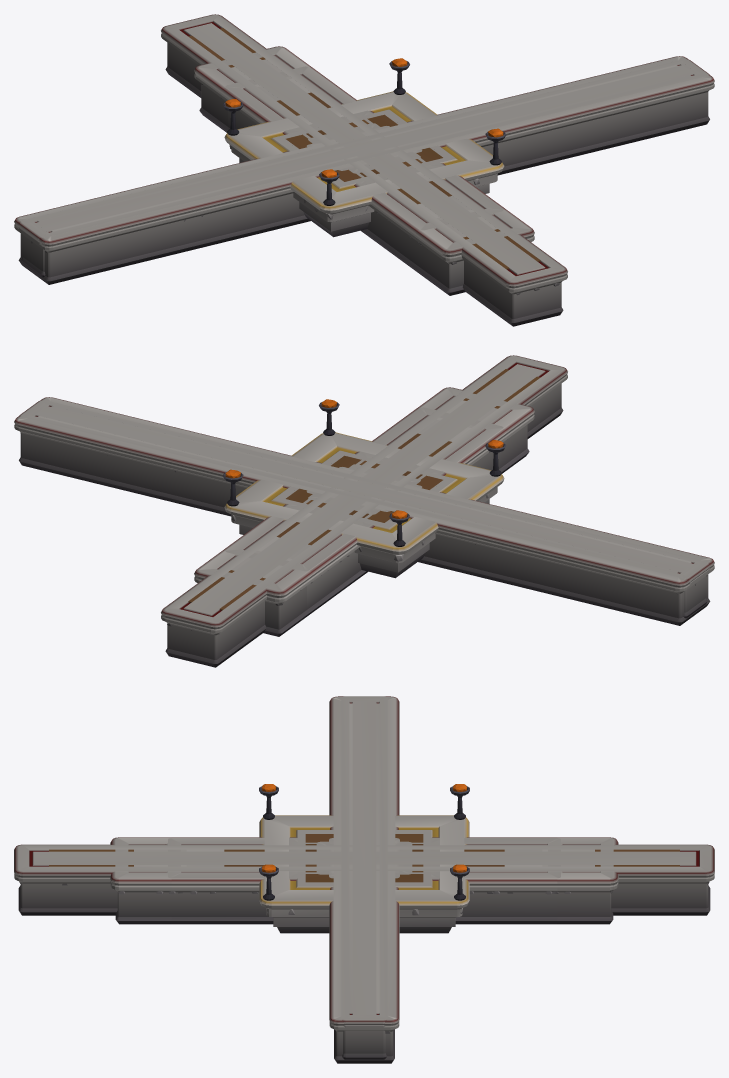
File: fortress-2-Cm3XvLtw.glb
3 renders of one model, top to bottom at view 1: azimuth 30°, elevation 25°; view 2: azimuth 150°, elevation 25°; view 3: azimuth 270°, elevation 25°, orthographic.
Visible parts, largest first — view 1: block_44x2x4_grate#1, block_4x2x40_grate#1, block_44x2x3#1, pad_12x2x12#1, block_6x2x23#1, block_6x2x29#1, hover_7x1.5x7#1, beam_2.5x1.5x36#1; view 2: block_44x2x4_grate#1, block_4x2x40_grate#1, block_44x2x3#1, pad_12x2x12#1, block_6x2x23#1, block_6x2x29#1, hover_7x1.5x7#1, beam_2.5x1.5x36#1; view 3: block_4x2x40_grate#1, block_44x2x3#1, pad_12x2x12#1, block_6x2x23#1, block_44x2x4_grate#1, block_6x2x29#1, hover_7x1.5x7#1, beam_2.5x1.5x36#1.
Part boxes in pixels (x1,y1,x2,y2): block_44x2x4_grate#1: (14,56,714,284); block_4x2x40_grate#1: (161,14,567,326); block_44x2x3#1: (18,59,709,277); pad_12x2x12#1: (222,58,505,237); block_6x2x23#1: (221,66,505,275); block_6x2x29#1: (194,46,534,295); hover_7x1.5x7#1: (286,114,442,181); beam_2.5x1.5x36#1: (188,28,540,269); block_44x2x4_grate#1: (14,397,714,625); block_4x2x40_grate#1: (161,355,567,667); block_44x2x3#1: (19,400,710,618); pad_12x2x12#1: (223,399,506,578); block_6x2x23#1: (223,407,507,616); block_6x2x29#1: (194,387,534,636); hover_7x1.5x7#1: (286,455,442,522); beam_2.5x1.5x36#1: (188,369,540,610); block_4x2x40_grate#1: (14,844,714,915); block_44x2x3#1: (341,696,387,1059); pad_12x2x12#1: (259,784,469,933); block_6x2x23#1: (165,837,563,924); block_44x2x4_grate#1: (329,696,399,1063); block_6x2x29#1: (110,837,618,924); hover_7x1.5x7#1: (305,834,423,882); beam_2.5x1.5x36#1: (49,849,679,866).
Bounding box in the file's own units: 44 × 6.35 × 40.
